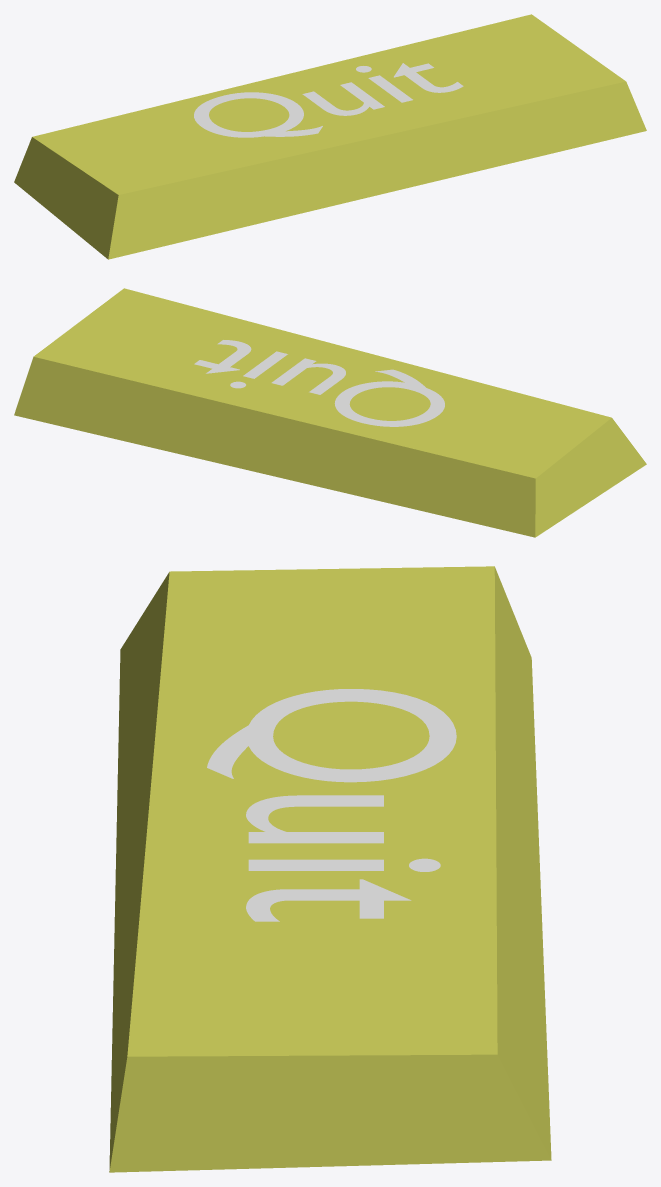
3 views of the same model, one above another, from view 1: azimuth 30°, elevation 25°; view 2: azimuth 150°, elevation 25°; view 3: azimuth 270°, elevation 25° (orthographic). The views are drawn at different scales.
Parts seen in each view (by area): view 1: Cube, Text.001; view 2: Cube, Text.001; view 3: Cube, Text.001.
Part boxes in pixels (x1,y1,x2,y2): Cube: (14, 14, 646, 259); Text.001: (194, 63, 463, 137); Cube: (14, 288, 646, 537); Text.001: (194, 340, 444, 426); Cube: (109, 566, 551, 1172); Text.001: (207, 689, 456, 921).
Size of the model in its own units: 411 by 39.5 by 147.
